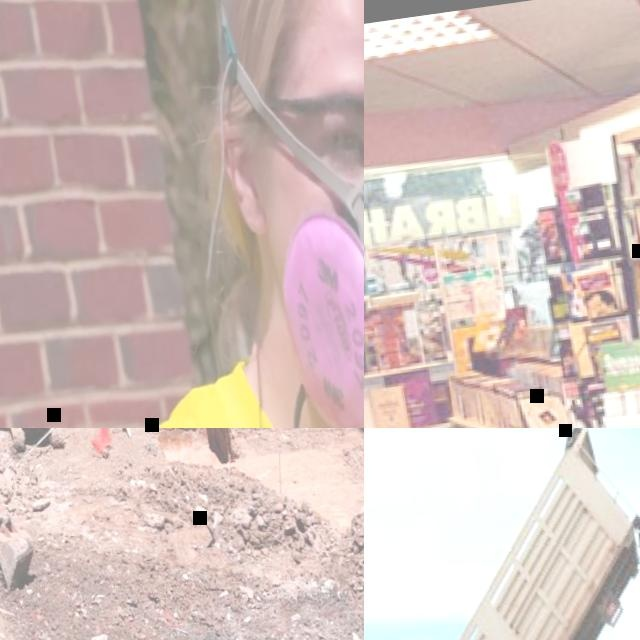Mask: (259, 126, 364, 428)
NO-Hardhat: (212, 0, 364, 86)
NO-Safety Vest: (127, 330, 364, 428)
Person: (0, 0, 364, 428)
machinery: (364, 428, 640, 640)
